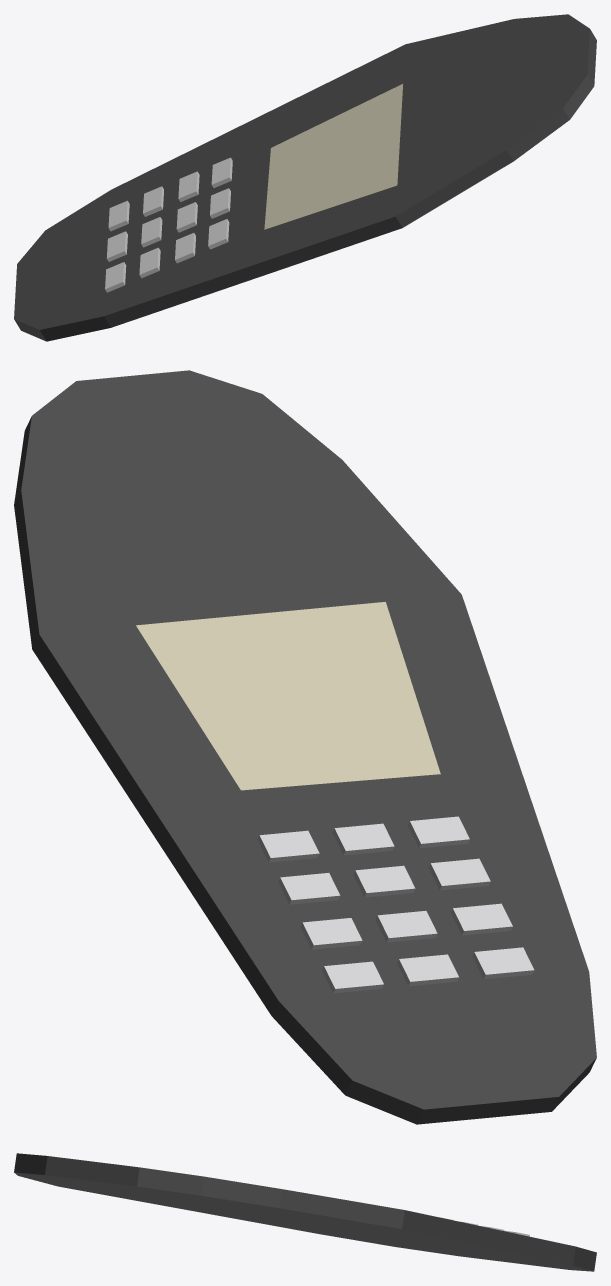
File: Flashback_02_phone.glb
3 renders of one model, top to bottom at view 1: azimuth 30°, elevation 25°; view 2: azimuth 150°, elevation 25°; view 3: azimuth 270°, elevation 25°, orthographic. The views are drawn at different scales.
Visible parts, largest first — view 1: Cube.013; view 2: Cube.013; view 3: Cube.013.
Part boxes in pixels (x1,y1,x2,y2): Cube.013: (14,14,596,341); Cube.013: (14,370,596,1124); Cube.013: (14,1153,596,1271).
Bounding box in the file's own units: 0.1057 × 0.0631 × 0.0918.
Materials: 1 (1 with a texture image).
